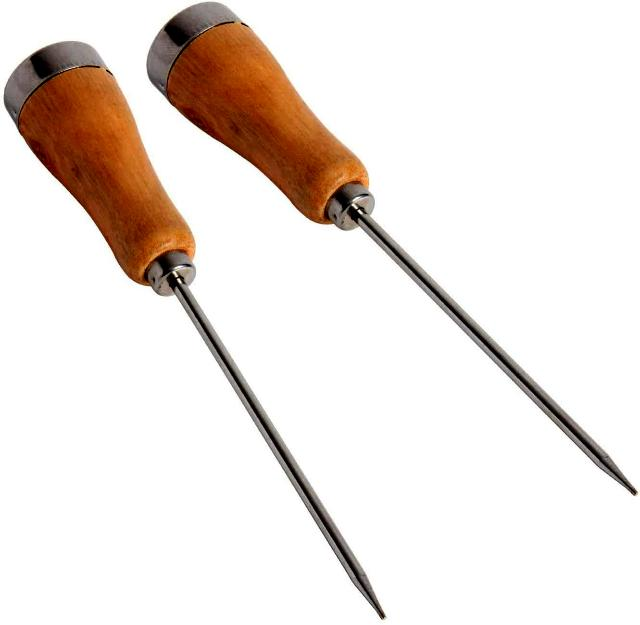ice pick: (147, 0, 638, 500), (4, 40, 386, 616)
